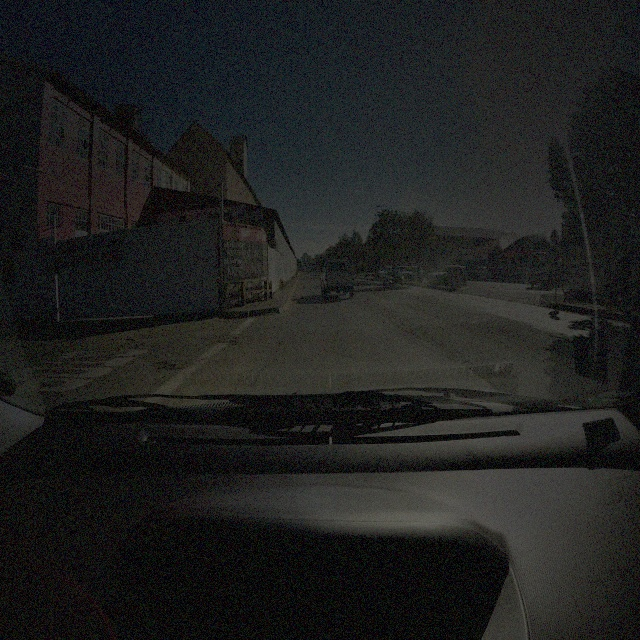pothole: (153, 359, 188, 372), (116, 338, 136, 348)
